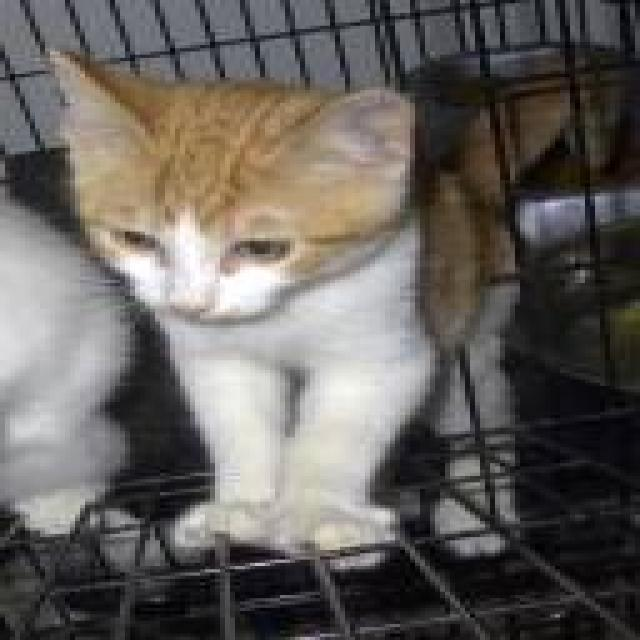cat: (13, 28, 592, 600)
